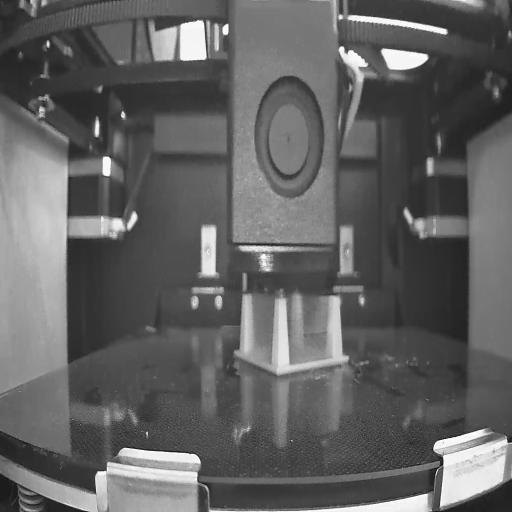stringing: (287, 293, 335, 370), (247, 293, 274, 368)
